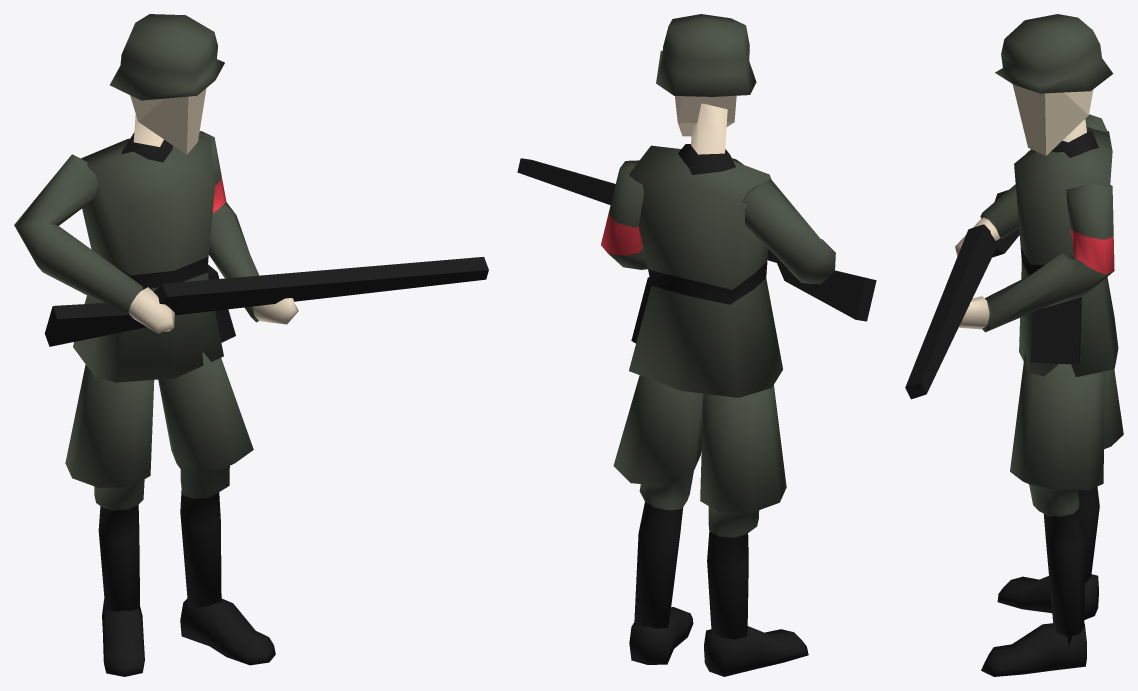
The model's file is mesh_NaziSoldier_b.fbx.
3 views of the same model, side by side, from view 1: azimuth 30°, elevation 25°; view 2: azimuth 150°, elevation 25°; view 3: azimuth 270°, elevation 25° (orthographic). The views are drawn at different scales.
Parts seen in each view (by area): view 1: mesh_NaziSoldier_b; view 2: mesh_NaziSoldier_b; view 3: mesh_NaziSoldier_b.
Boxes of the visible parts, box(x1,y1,x2,y2) form: mesh_NaziSoldier_b: box(14, 14, 488, 676); mesh_NaziSoldier_b: box(517, 14, 876, 676); mesh_NaziSoldier_b: box(905, 14, 1123, 676).
Size of the model in its own units: 65.36 by 101 by 32.52.
